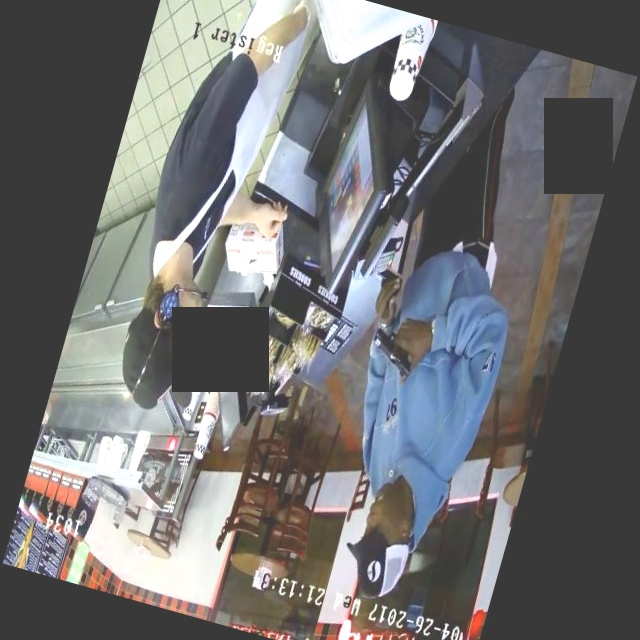gun: (353, 308, 440, 397)
